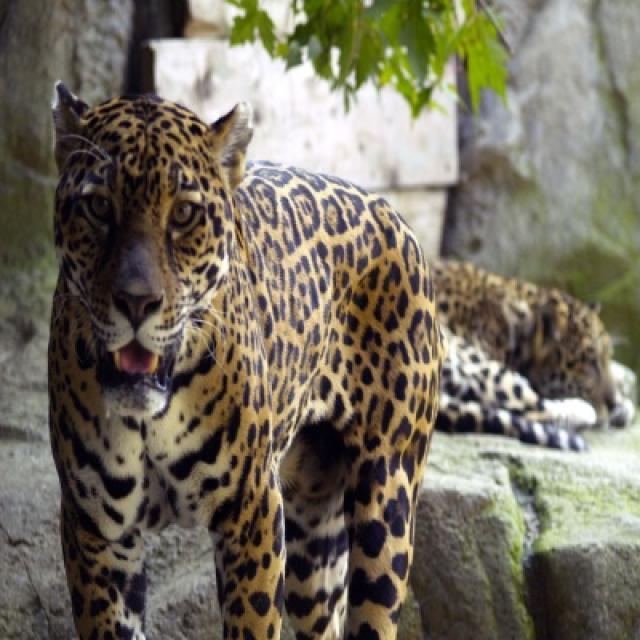Jaguar: (46, 83, 446, 638), (434, 261, 635, 443)
